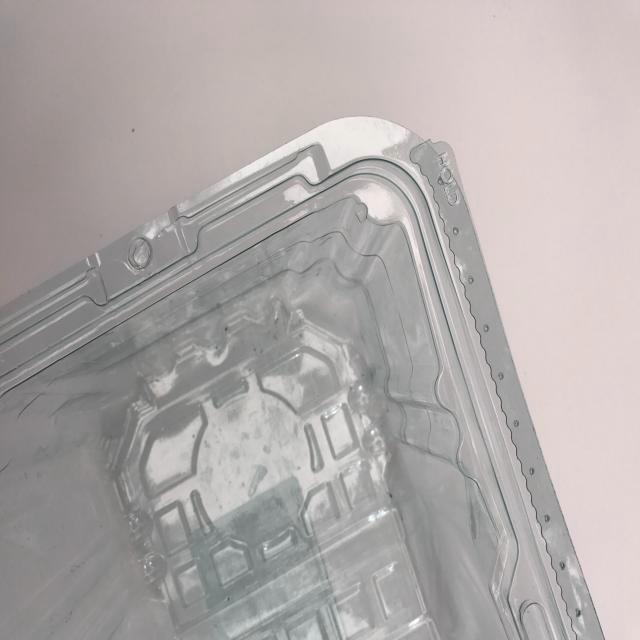plastic: (0, 96, 633, 639)
